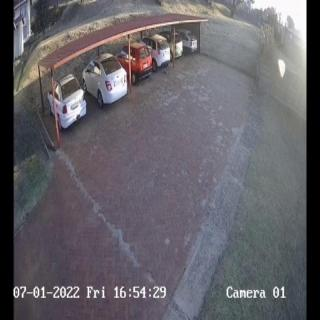car: (81, 56, 127, 107), (47, 74, 86, 131), (118, 43, 152, 82), (138, 34, 171, 70), (157, 31, 183, 57), (172, 30, 198, 54)
